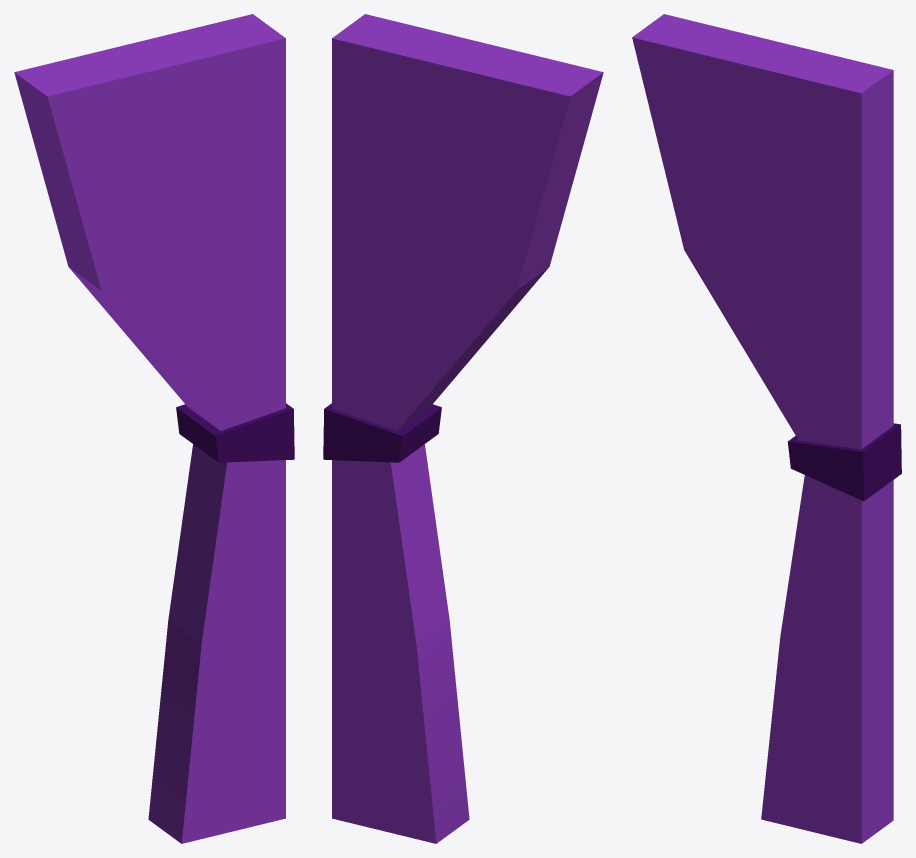
File: Curtain 01 Purple.FBX
3 views of the same model, side by side, from view 1: azimuth 30°, elevation 25°; view 2: azimuth 150°, elevation 25°; view 3: azimuth 330°, elevation 25° (orthographic). The views are drawn at different scales.
Visible parts, largest first — view 1: Curtain 01 Purple; view 2: Curtain 01 Purple; view 3: Curtain 01 Purple.
Part boxes in pixels (x1,y1,x2,y2): Curtain 01 Purple: [14, 14, 294, 843]; Curtain 01 Purple: [323, 14, 603, 843]; Curtain 01 Purple: [632, 14, 901, 843].
Bounding box in the file's own units: 81.87 × 250 × 22.89.
